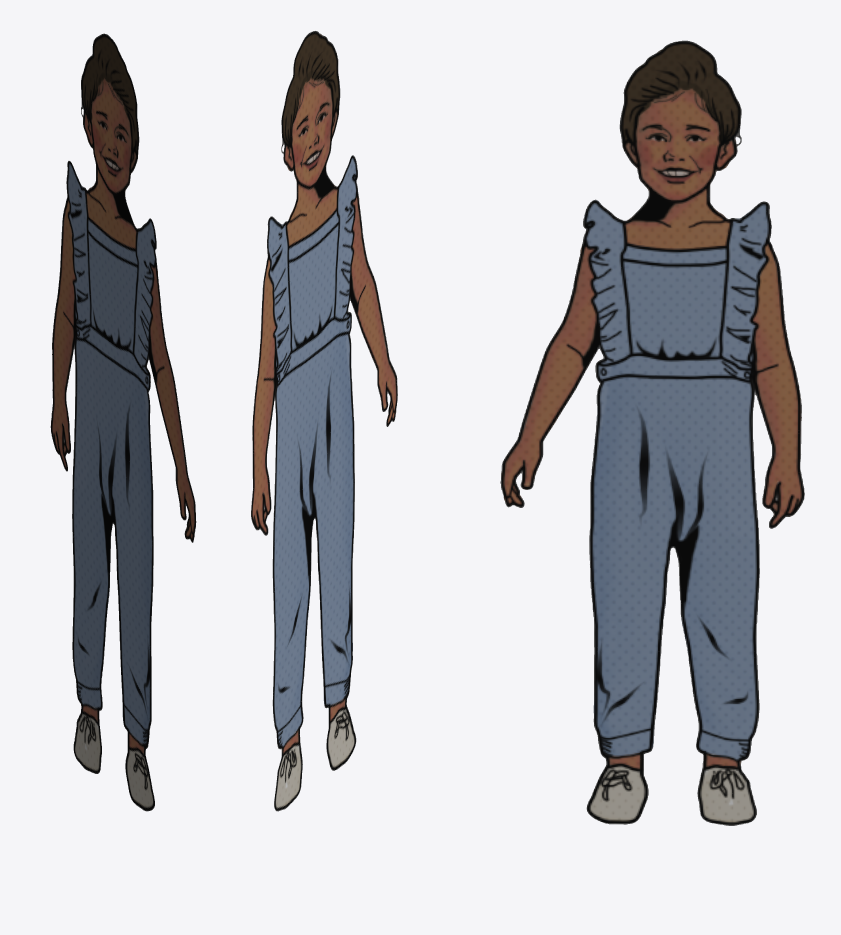
File: Characters_Child2_Geo.obj
3 renders of one model, left to right at view 1: azimuth 30°, elevation 25°; view 2: azimuth 150°, elevation 25°; view 3: azimuth 270°, elevation 25°, orthographic. The views are drawn at different scales.
Parts seen in each view (by area): view 1: Characters_Child1_Geo:pCube1; view 2: Characters_Child1_Geo:pCube1; view 3: Characters_Child1_Geo:pCube1.
Boxes of the visible parts, x1,y1,x2,y2 form: Characters_Child1_Geo:pCube1: (50, 33, 196, 811); Characters_Child1_Geo:pCube1: (251, 31, 397, 811); Characters_Child1_Geo:pCube1: (500, 40, 804, 825).
Bounding box in the file's own units: 0.046 × 1.45 × 0.5268.
Materials: 1 (1 with a texture image).
